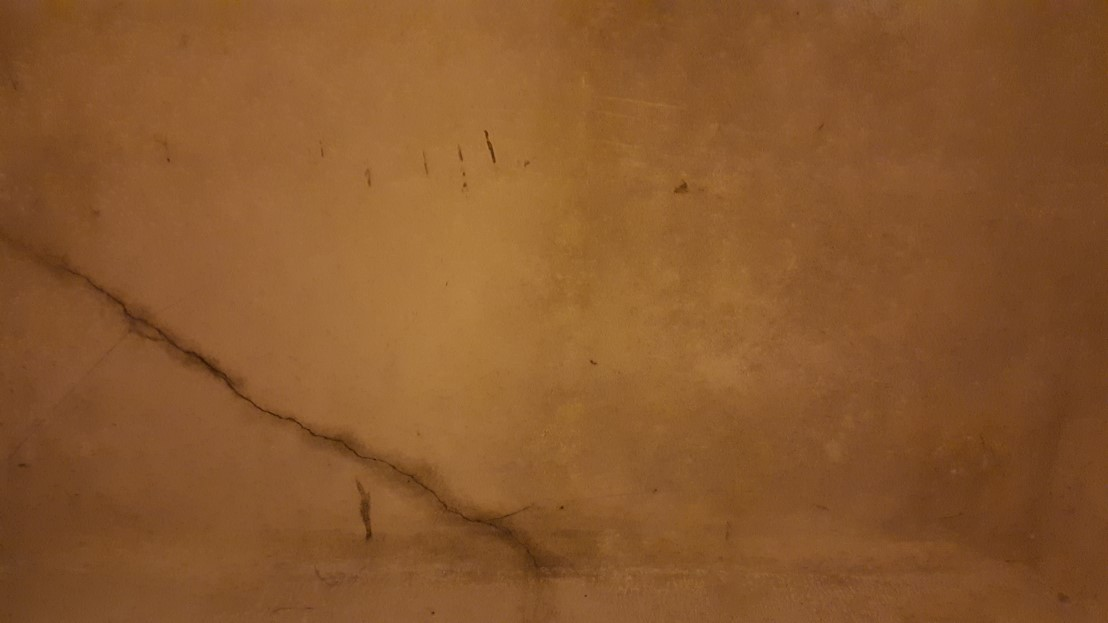Crack: (0, 221, 496, 527), (473, 490, 615, 623)
